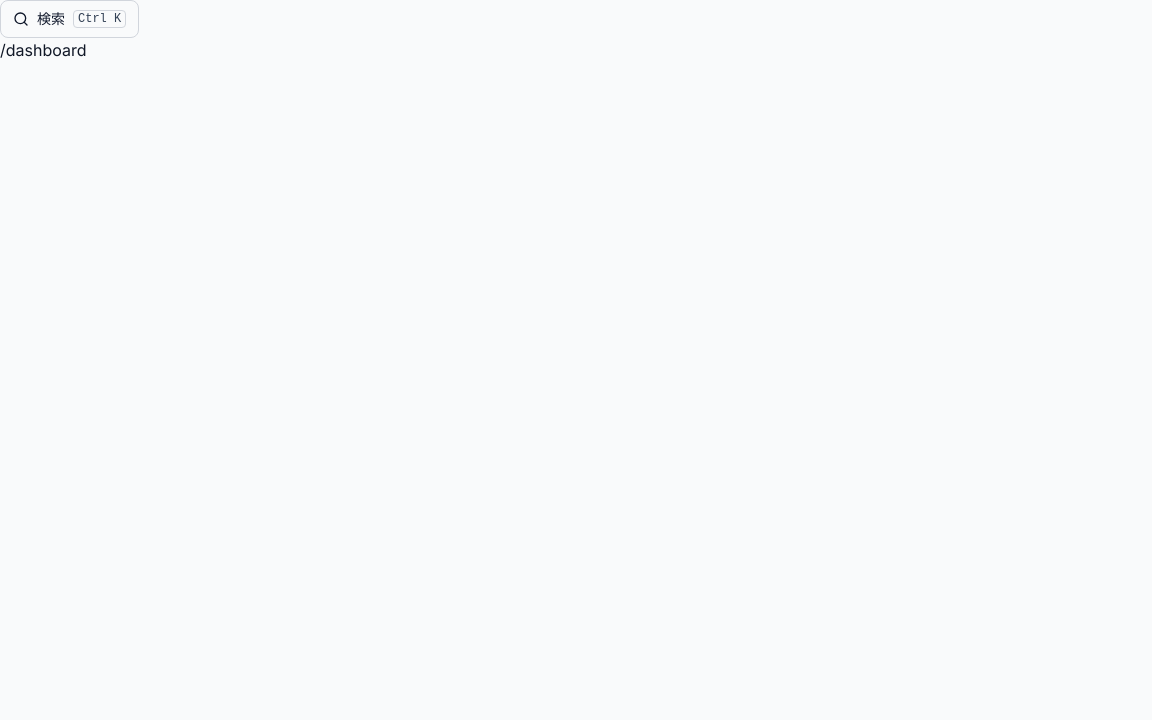
Scenario: CommandPalette (Gate C3) › [G4] 旅行の外ではコマンドを使えない
Press k
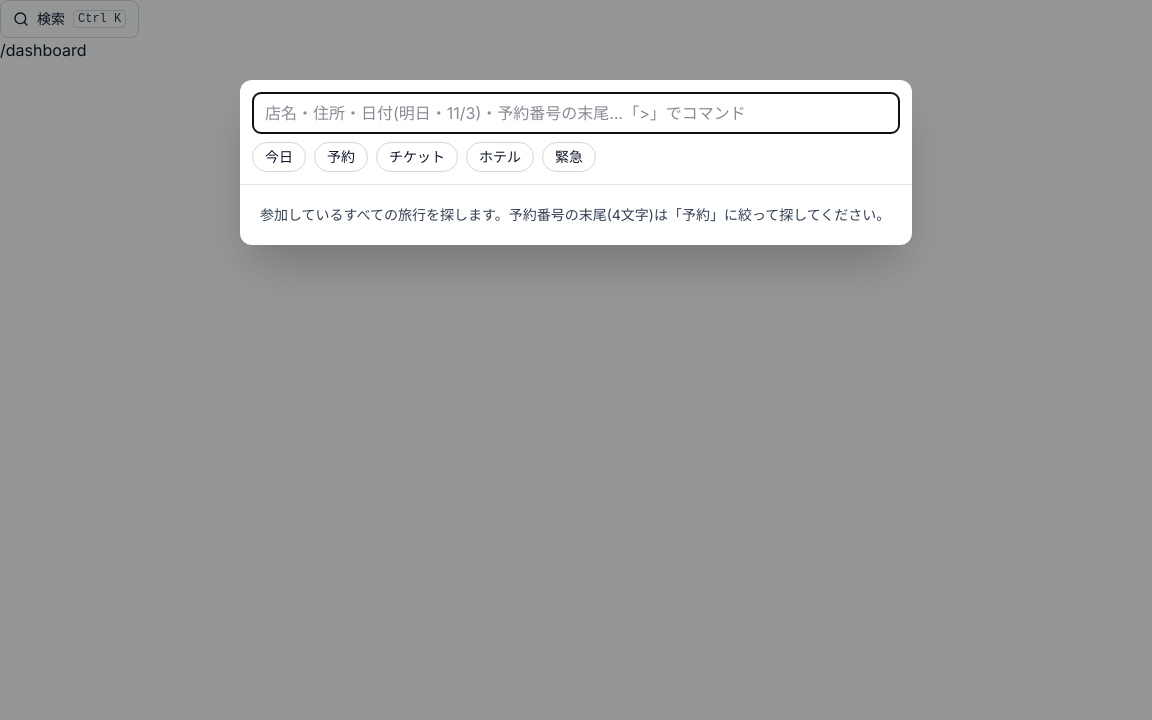
Type ">予定を追加" into the dropdown at [576, 113], box [252,92,900,134]
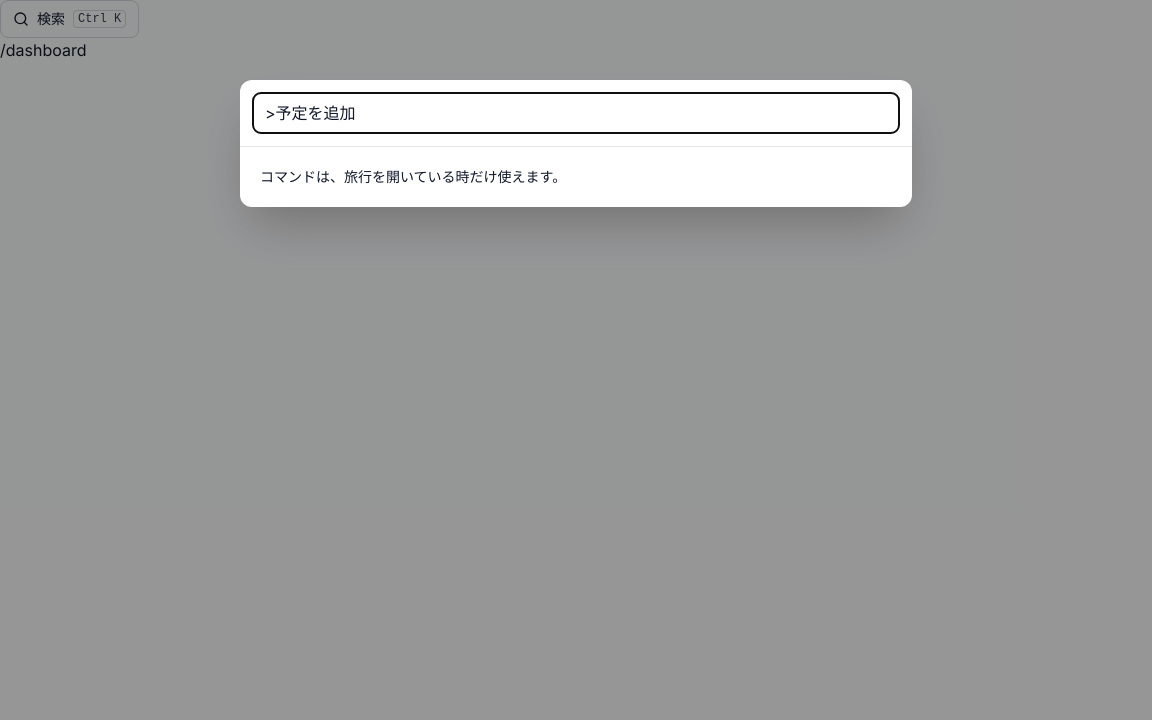
Now the text "コマンドは、旅行を開いている時だけ使えます。" is shown, box [260,168,566,185]
